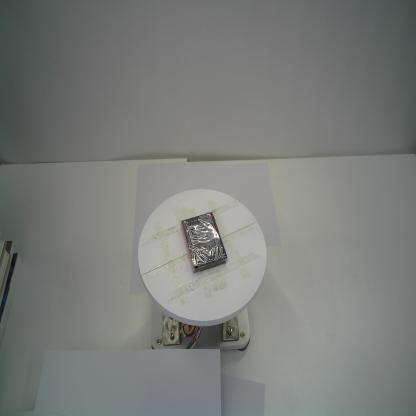Gum: (181, 212, 227, 274)
